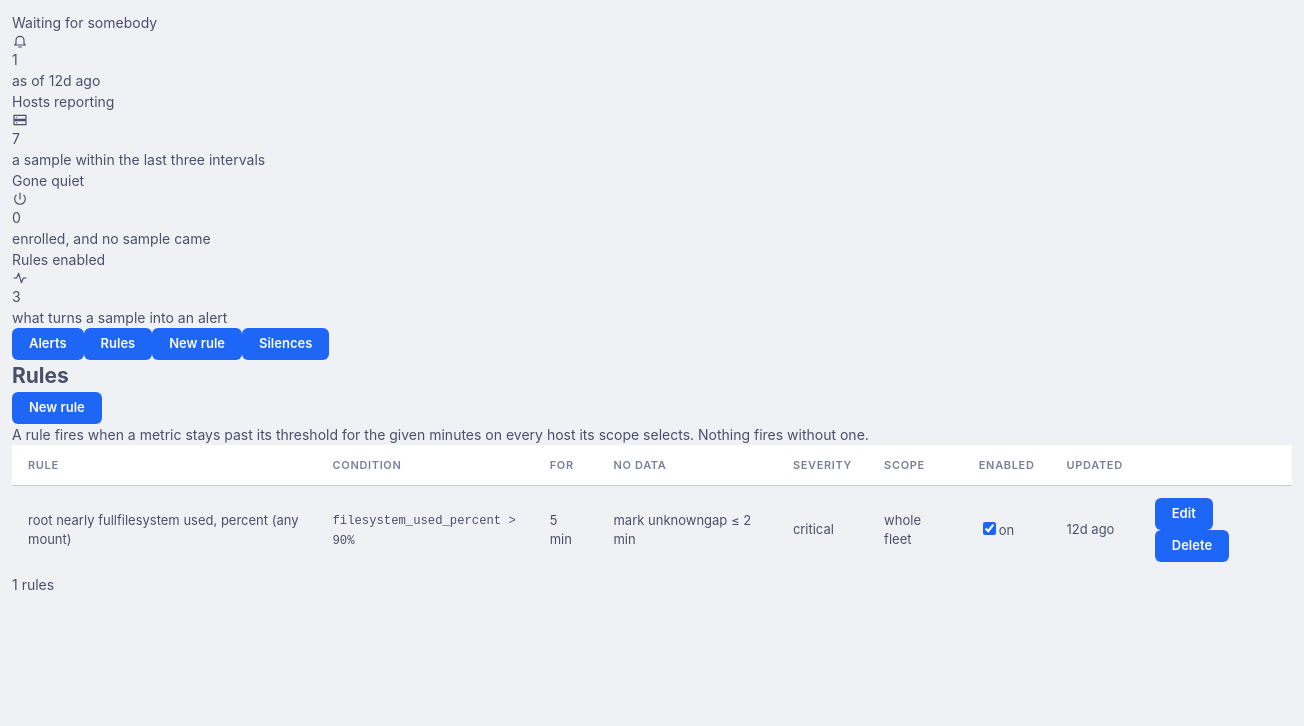
the form of a rule › opens on a sub-tab of its own and not inside the rules container
The image size is (1304, 726).
Click the button with test id "new-rule". click: (57, 408)
box: top-left (12, 392), bottom-right (102, 424)
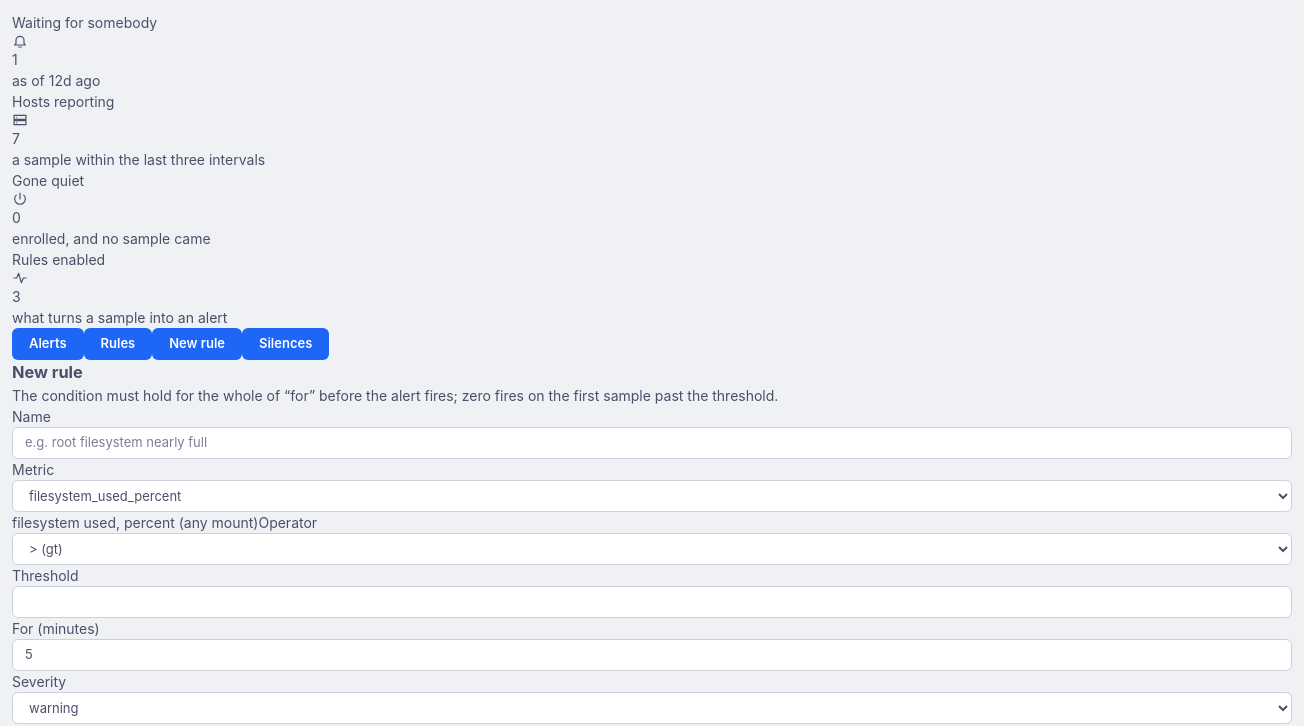
Expected: the table with test id "rules" is gone
